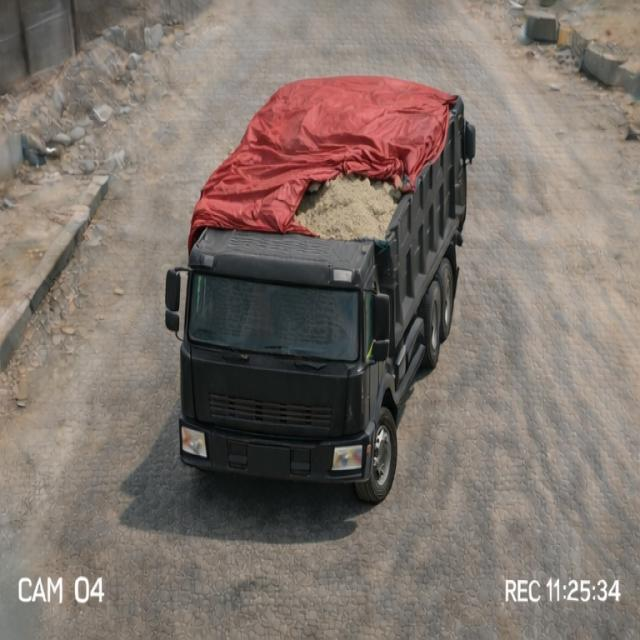trailer: (198, 76, 474, 231)
truck: (164, 63, 496, 506)
